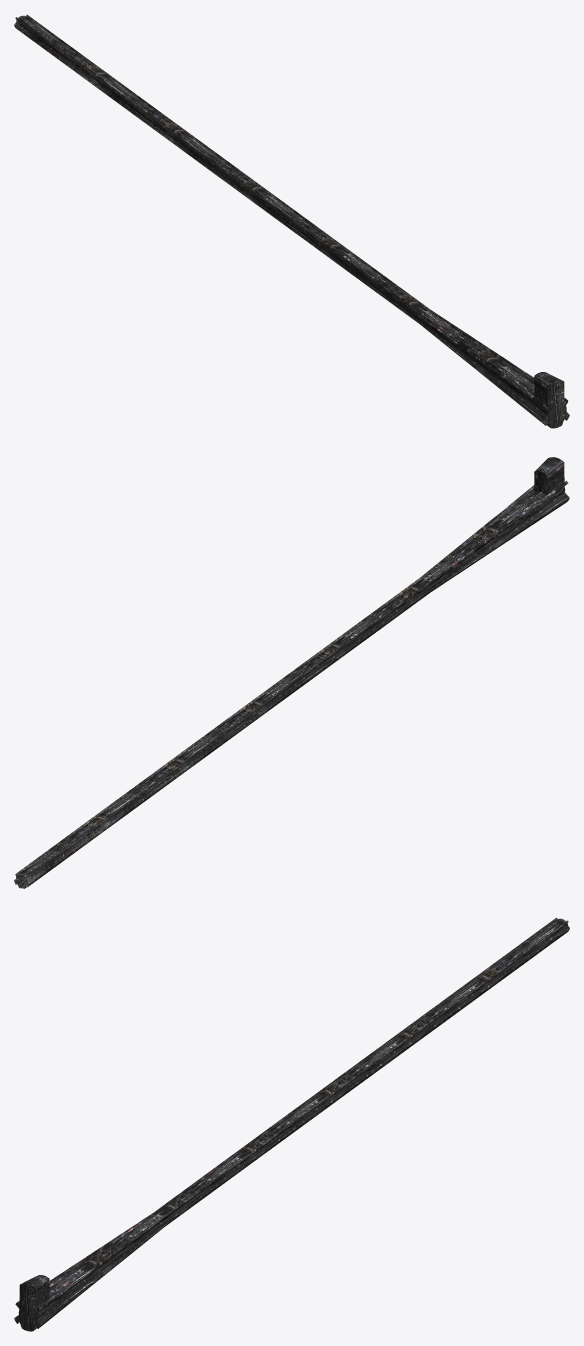
Rendered from acceleration_cannon.obj.
3 views of the same model, one above another, from view 1: azimuth 30°, elevation 25°; view 2: azimuth 150°, elevation 25°; view 3: azimuth 330°, elevation 25° (orthographic).
Parts seen in each view (by area): view 1: Circle; view 2: Circle; view 3: Circle.
Part boxes in pixels (left/top/right/bottom): Circle: left=14, top=14, right=569, bottom=428; Circle: left=14, top=457, right=569, bottom=888; Circle: left=14, top=917, right=569, bottom=1331.
Bounding box in the file's own units: 1.85 × 3.05 × 62.83.
